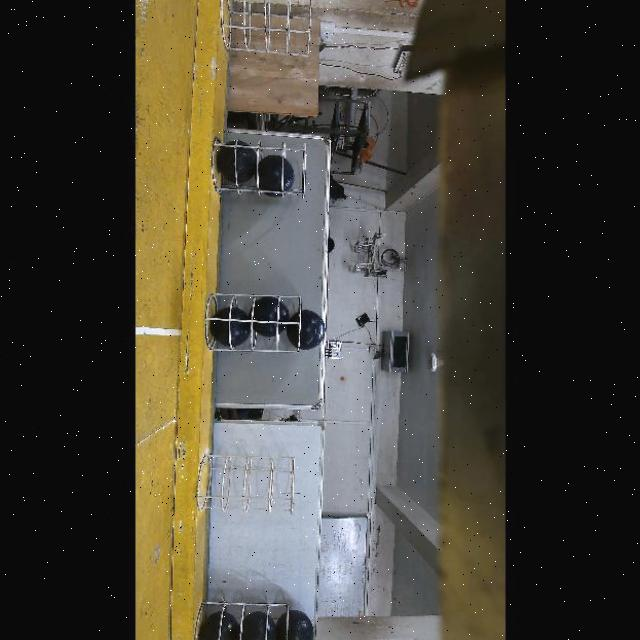P: (217, 141, 255, 182), (253, 297, 290, 337), (259, 155, 294, 197), (211, 307, 249, 345), (285, 311, 323, 349), (274, 610, 314, 640), (198, 611, 239, 640), (241, 612, 279, 640)
S: (210, 124, 306, 200), (202, 292, 304, 354), (197, 452, 296, 511), (222, 1, 312, 54), (199, 600, 287, 640)
